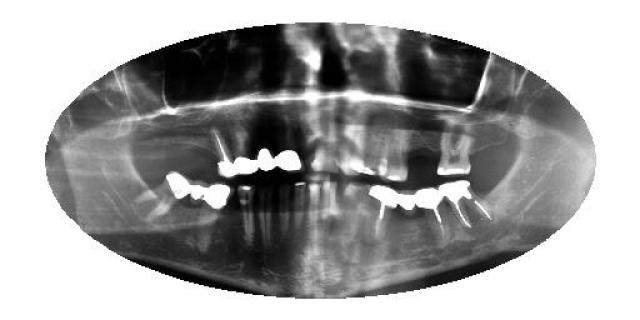Fillings: (135, 168, 193, 222), (198, 182, 232, 256), (231, 122, 259, 174), (276, 144, 306, 174), (258, 142, 276, 172), (396, 189, 416, 216), (188, 179, 208, 201)
Implant: (438, 180, 494, 226), (414, 185, 450, 241), (368, 184, 398, 242), (210, 128, 239, 178)
